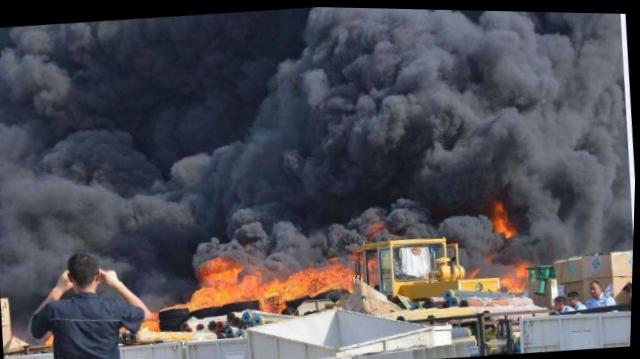fire: (283, 260, 356, 300), (189, 272, 261, 308), (198, 253, 244, 288), (261, 274, 287, 312), (495, 196, 517, 235), (501, 273, 528, 291), (144, 315, 162, 329), (164, 299, 190, 308), (519, 260, 532, 273)
smoke: (0, 0, 639, 242), (0, 192, 495, 269), (514, 186, 635, 250)
